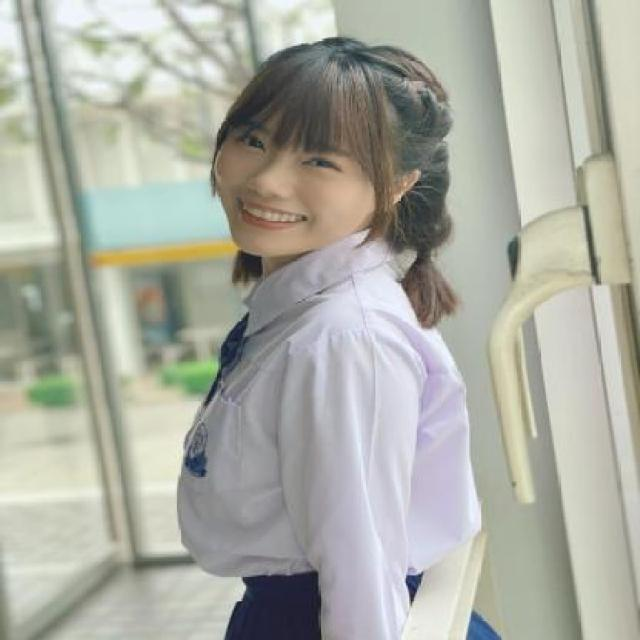sem_oculos: (212, 109, 426, 190)
